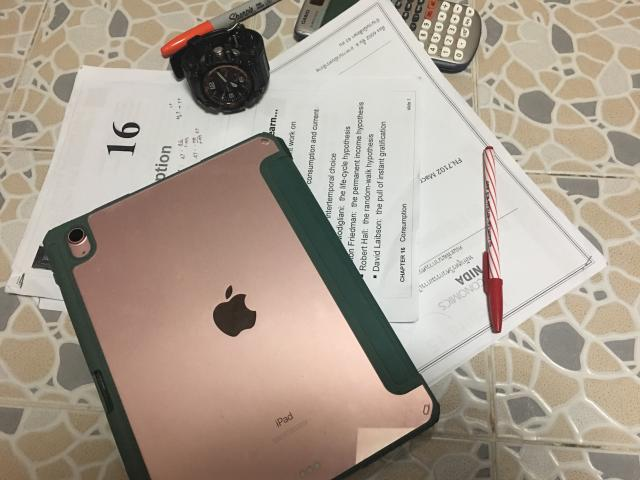Pen: (161, 0, 280, 58), (482, 146, 502, 334)
Watch: (170, 24, 269, 114)
paper: (6, 0, 605, 381)
